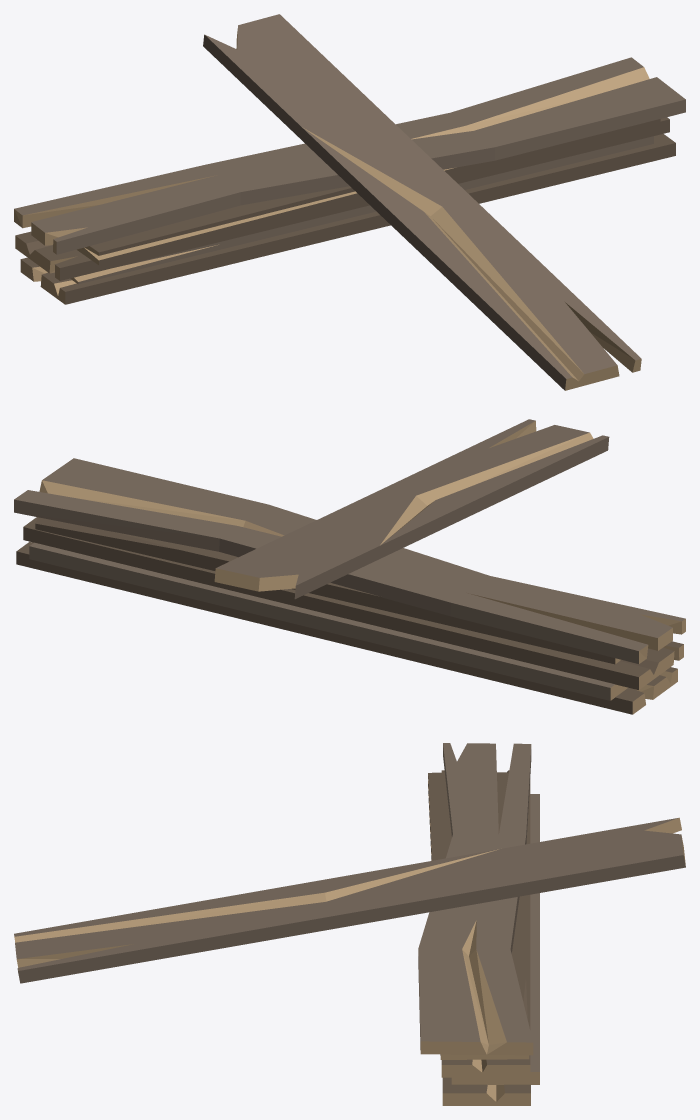
The model's file is _wood_3.fbx.
3 views of the same model, one above another, from view 1: azimuth 30°, elevation 25°; view 2: azimuth 150°, elevation 25°; view 3: azimuth 270°, elevation 25° (orthographic).
Visible parts, largest first — view 1: wood_3; view 2: wood_3; view 3: wood_3.
Part boxes in pixels (x1,y1,x2,y2): wood_3: [14, 14, 685, 390]; wood_3: [14, 419, 685, 714]; wood_3: [14, 743, 685, 1105].
Size of the model in its own units: 454 by 83.71 by 431.
